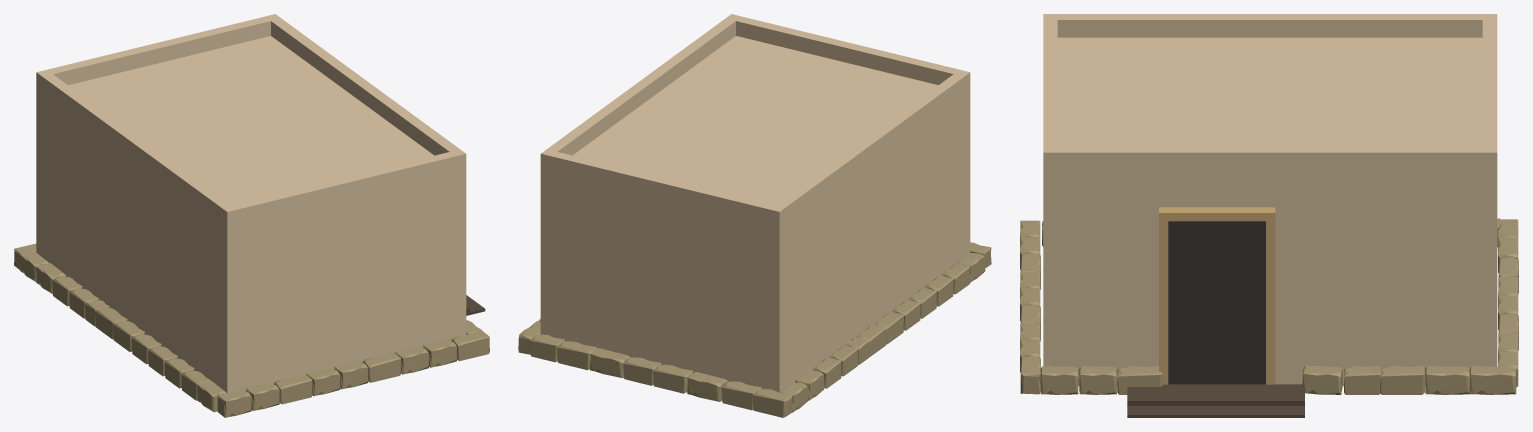
The model's file is SM_small_house_06.fbx.
The picture shows the model from 3 angles, left to right: view 1: azimuth 30°, elevation 25°; view 2: azimuth 150°, elevation 25°; view 3: azimuth 270°, elevation 25°; orthographic projection. The views are drawn at different scales.
Visible parts, largest first — view 1: small_house_06; view 2: small_house_06; view 3: small_house_06.
Part boxes in pixels (x1,y1,x2,y2): small_house_06: (14, 14, 489, 417); small_house_06: (518, 14, 991, 417); small_house_06: (1020, 14, 1518, 417).
Size of the model in its own units: 548 by 333 by 645.
